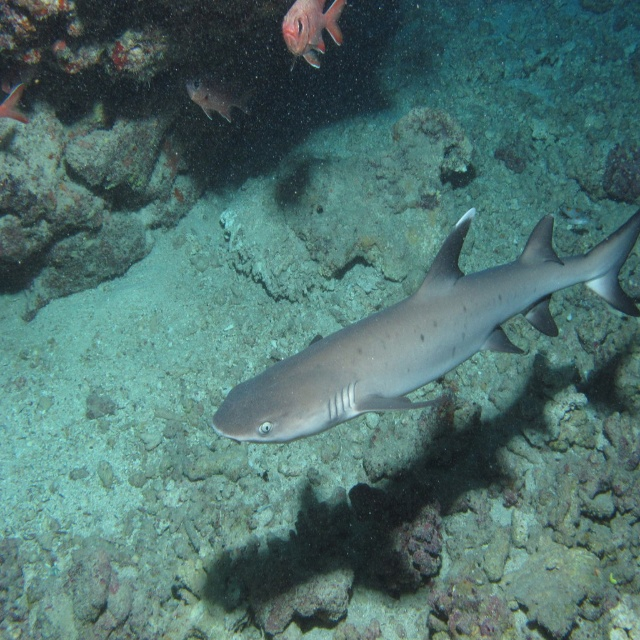Shark: (209, 210, 639, 442)
